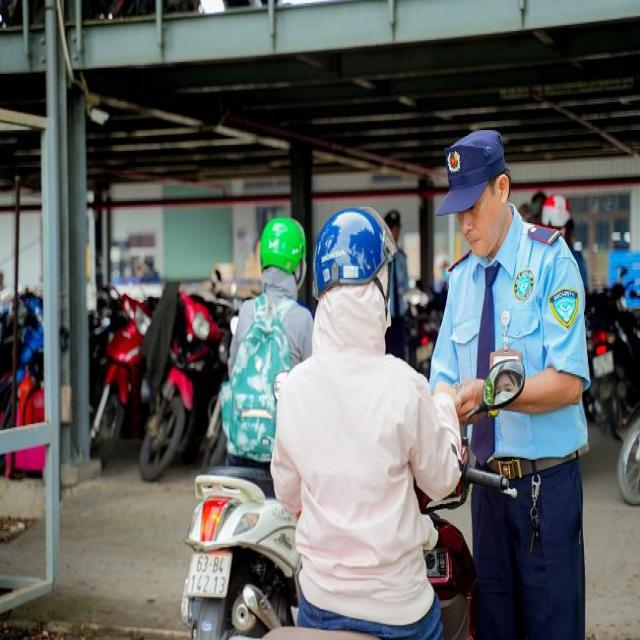helmet: (314, 207, 398, 298)
no_helmet: (435, 131, 506, 215)
